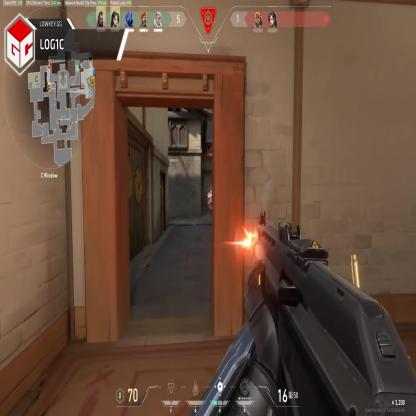enemy: (206, 185, 213, 215)
enemy_head: (209, 186, 212, 194)
